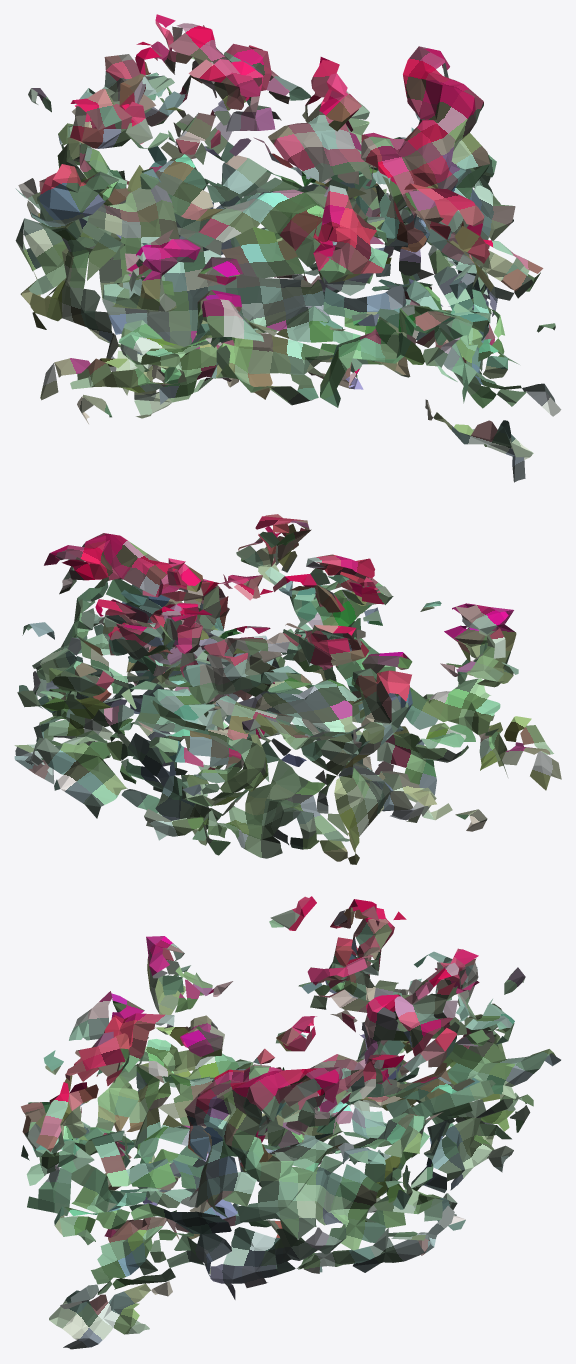
Rendered from redflower_fbx.fbx.
3 views of the same model, one above another, from view 1: azimuth 30°, elevation 25°; view 2: azimuth 150°, elevation 25°; view 3: azimuth 270°, elevation 25° (orthographic). The views are drawn at different scales.
Parts seen in each view (by area): view 1: Model; view 2: Model; view 3: Model.
Boxes of the visible parts, x1,y1,x2,y2 form: Model: (15,14,561,482); Model: (14,514,561,864); Model: (21,896,560,1349).
Bounding box in the file's own units: 2.55 × 1.78 × 2.52.
